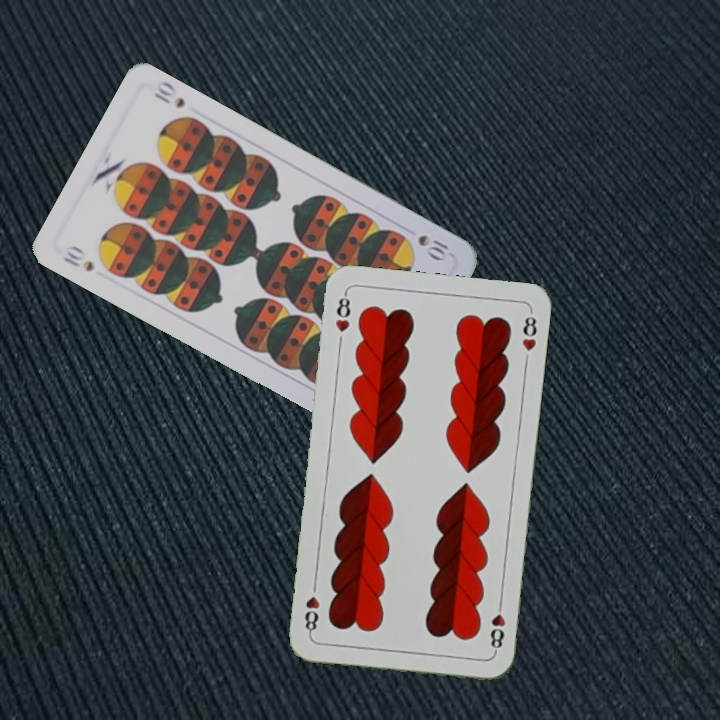H8: (486, 596, 508, 655), (331, 289, 353, 335)
S10: (413, 230, 451, 264), (59, 241, 96, 274)
